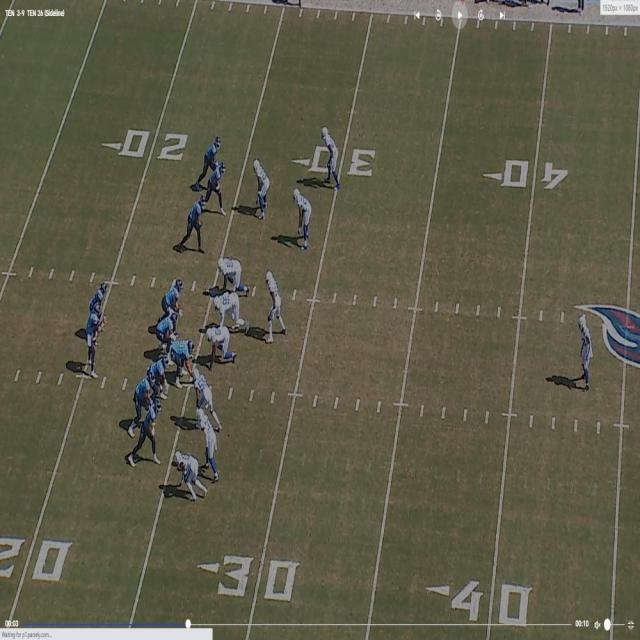center: (169, 340, 192, 378)
db: (200, 416, 220, 476), (322, 127, 338, 189), (298, 183, 312, 250), (254, 156, 268, 218), (578, 315, 590, 386)
lb: (264, 269, 284, 333), (191, 365, 215, 415)
qb: (86, 301, 102, 372)
skill: (140, 392, 159, 459), (185, 191, 205, 246), (200, 134, 220, 172), (211, 159, 225, 208), (96, 278, 110, 310)
